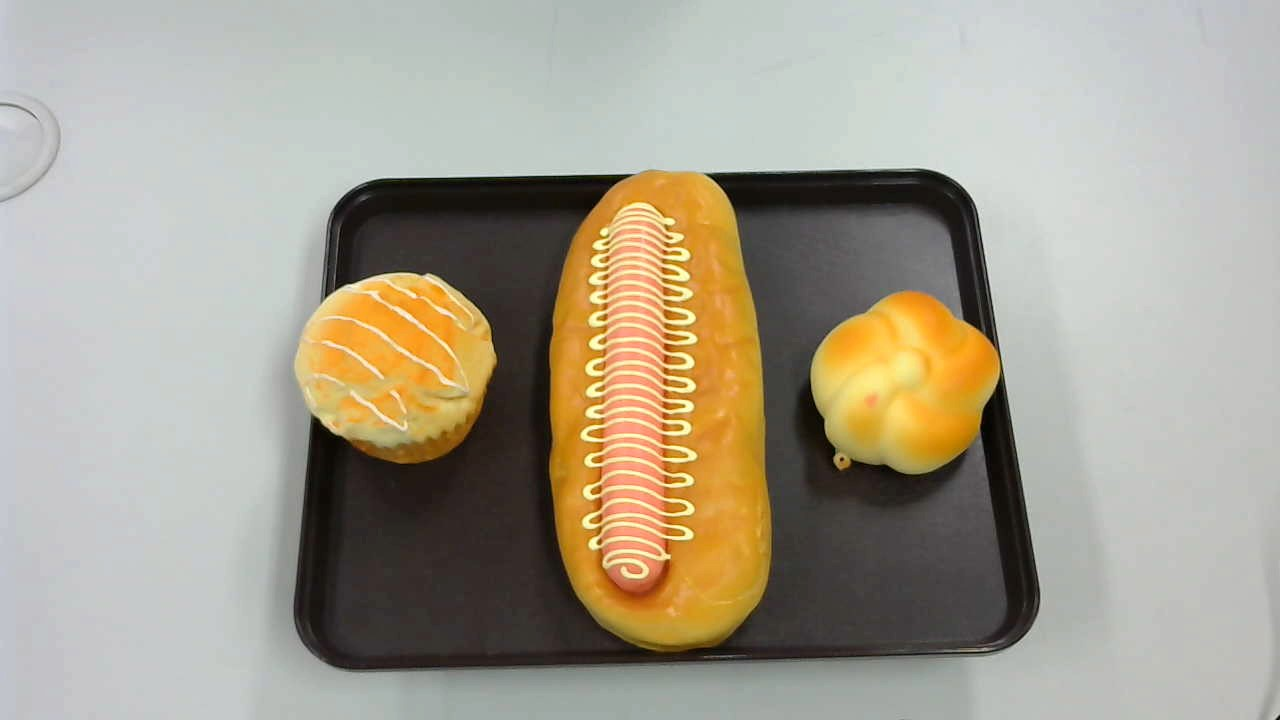croissant: (807, 289, 1001, 475)
cupcake: (292, 272, 498, 467)
hot dog: (548, 168, 772, 654)
